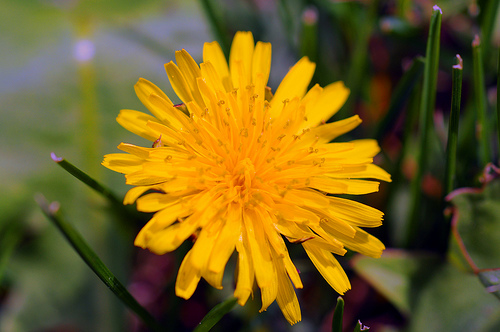dandelion yellow: (98, 29, 394, 326)
